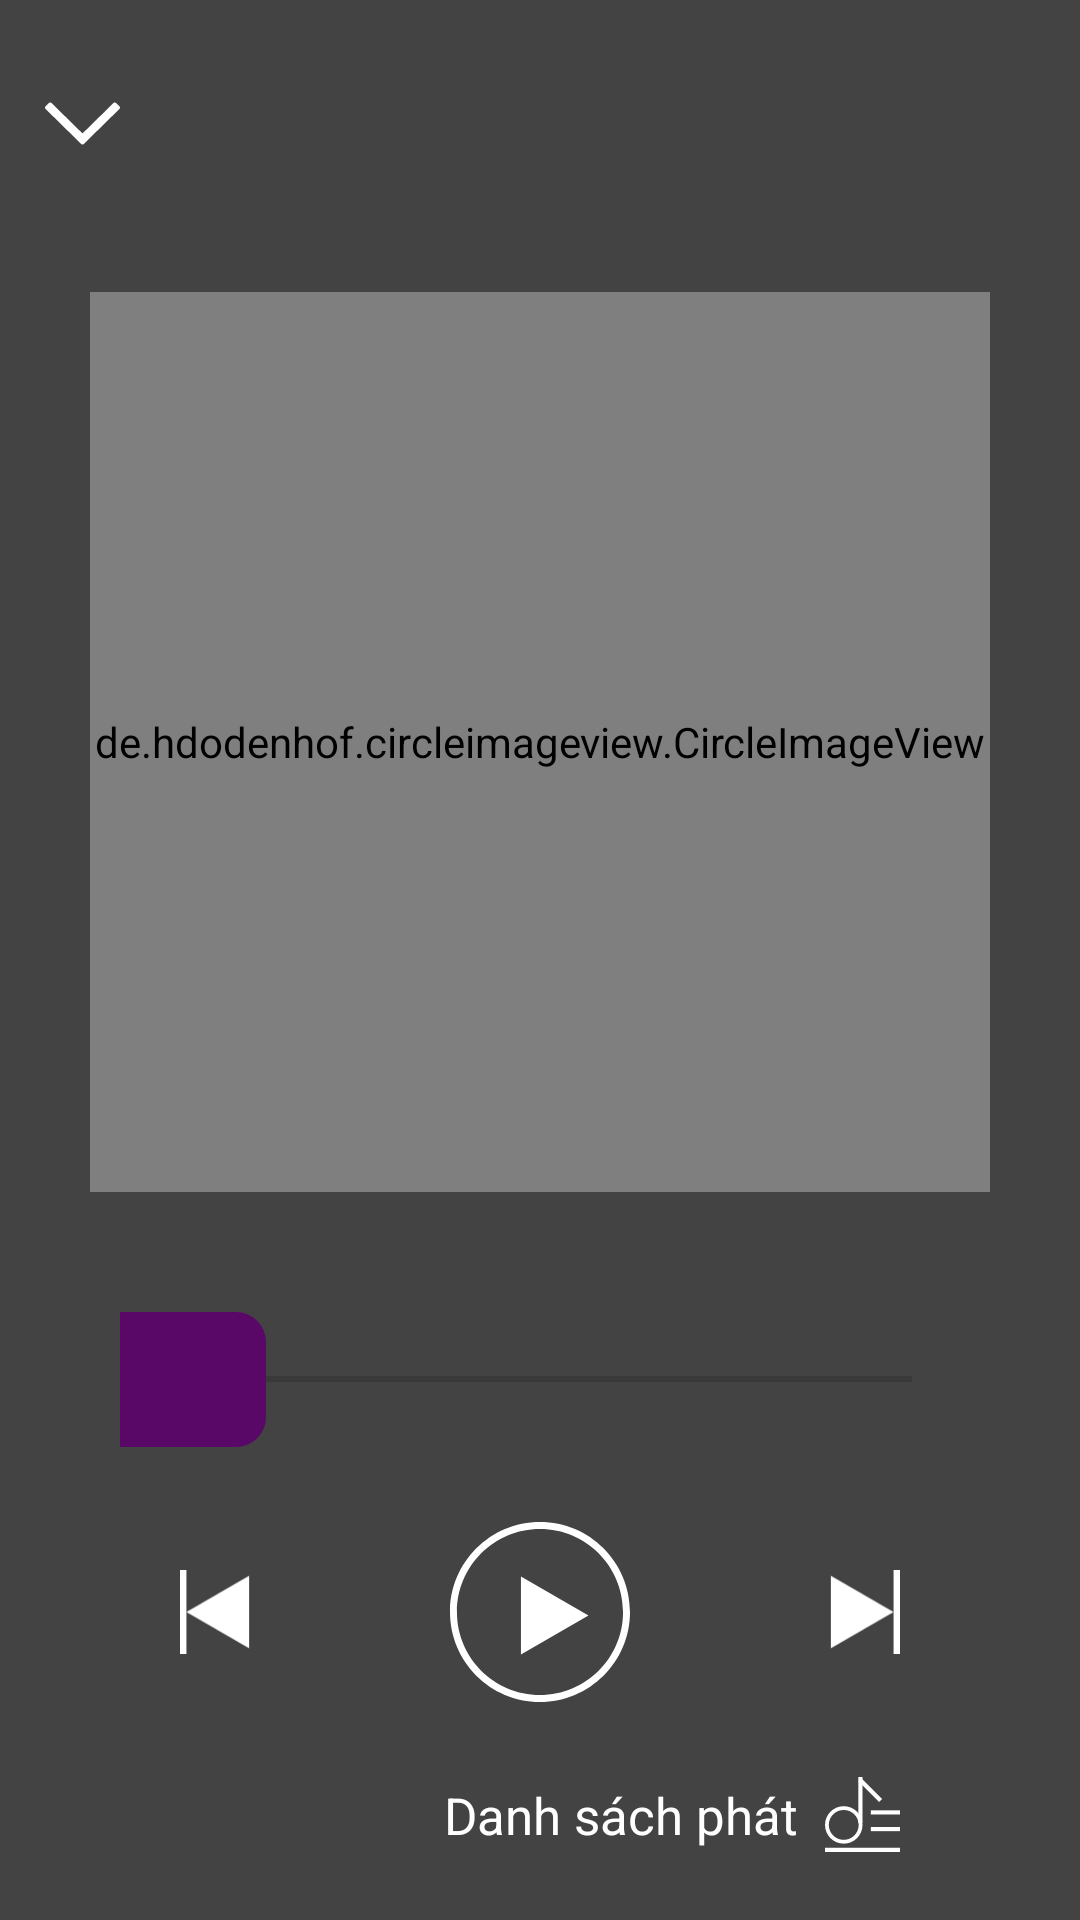

Screen size 1080*1920. Icon name, then its box in pixels as bbox=[x1, y1, x2, y2]:
back song: bbox=[180, 1570, 249, 1654]
down arrow: bbox=[45, 102, 120, 145]
next song: bbox=[831, 1570, 900, 1654]
play music: bbox=[450, 1522, 630, 1702]
playlist: bbox=[825, 1777, 900, 1852]
